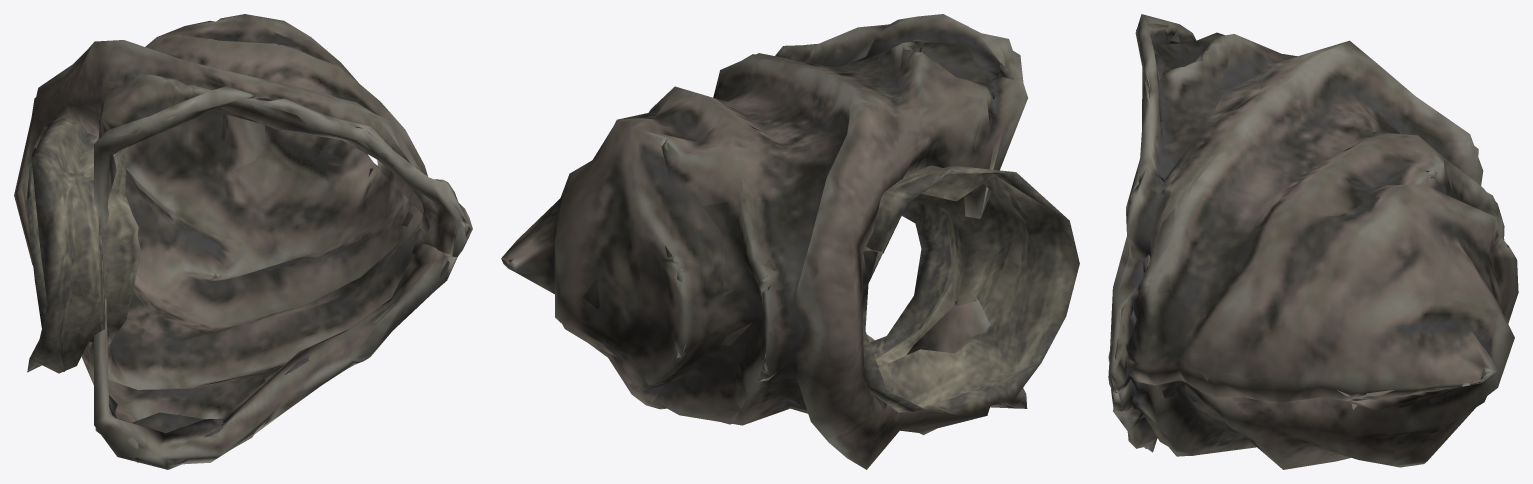
Rendered from M_CazadorHood.fbx.
The picture shows the model from 3 angles, left to right: view 1: azimuth 30°, elevation 25°; view 2: azimuth 150°, elevation 25°; view 3: azimuth 270°, elevation 25°; orthographic projection. The views are drawn at different scales.
Parts seen in each view (by area): view 1: hoodie; view 2: hoodie; view 3: hoodie.
Boxes of the visible parts, x1,y1,x2,y2 form: hoodie: (14,14,472,469); hoodie: (501,14,1079,469); hoodie: (1108,14,1518,469).
Bounding box in the file's own units: 0.2311 × 0.196 × 0.1785.
